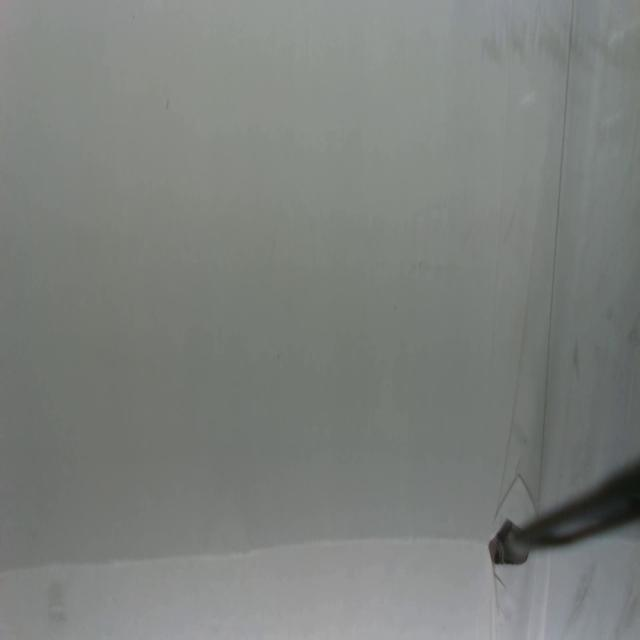crease: (538, 0, 573, 503), (497, 255, 532, 512)
hole: (489, 516, 532, 564), (164, 96, 172, 114), (132, 10, 138, 23)
